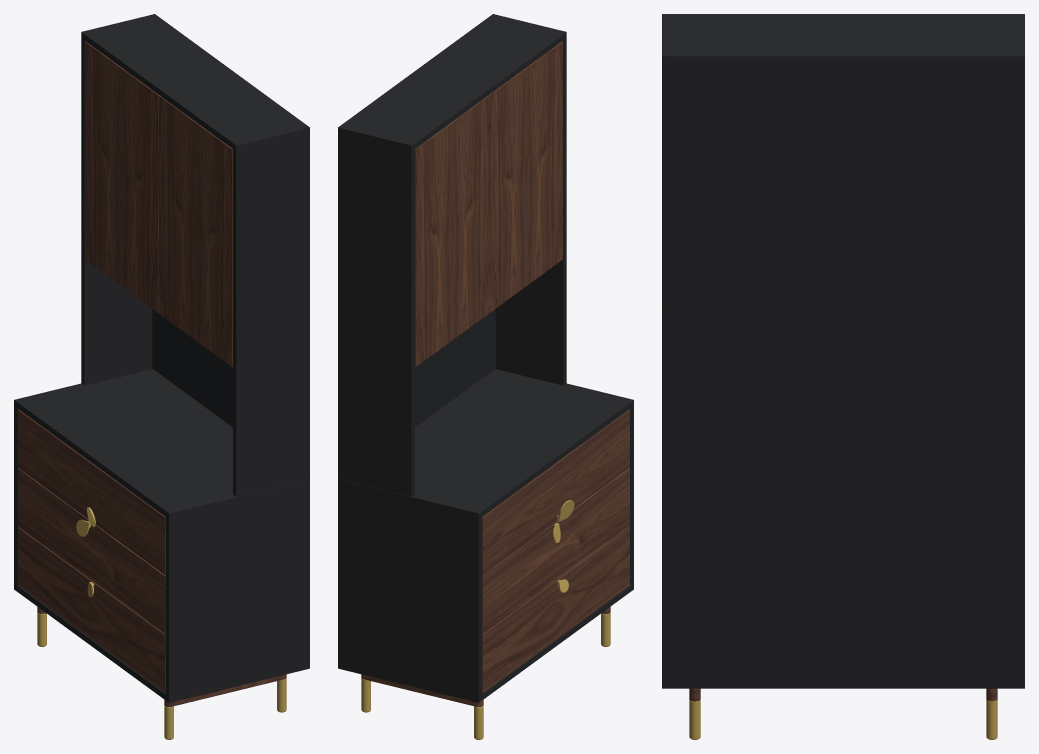
Rendered from petals-high-bar.glb.
3 views of the same model, side by side, from view 1: azimuth 30°, elevation 25°; view 2: azimuth 150°, elevation 25°; view 3: azimuth 270°, elevation 25° (orthographic). The views are drawn at different scales.
Parts seen in each view (by area): view 1: cabinet - lower, cabinet - upper, door - left, door - right, drawer - bot, drawer - top, drawer - mid, back - mid, base; view 2: cabinet - lower, cabinet - upper, door - right, door - left, drawer - bot, drawer - mid, drawer - top, back - mid, base; view 3: back - top, back - bot, back - mid, cabinet - upper, cabinet - lower.
Boxes of the visible parts, <box> form: cabinet - lower: <box>14,369,309,702</box>; cabinet - upper: <box>81,14,309,496</box>; door - left: <box>85,41,159,313</box>; door - right: <box>159,95,232,367</box>; drawer - bot: <box>18,527,165,692</box>; drawer - top: <box>18,409,165,575</box>; drawer - mid: <box>18,468,165,634</box>; back - mid: <box>152,309,232,427</box>; base: <box>37,607,286,706</box>; cabinet - lower: <box>338,369,633,702</box>; cabinet - upper: <box>338,14,566,496</box>; door - right: <box>488,41,562,313</box>; door - left: <box>415,95,488,367</box>; drawer - bot: <box>482,527,629,692</box>; drawer - mid: <box>482,468,629,634</box>; drawer - top: <box>482,409,629,575</box>; back - mid: <box>415,309,495,427</box>; base: <box>361,607,610,706</box>; back - top: <box>665,59,1021,315</box>; back - bot: <box>665,470,1021,685</box>; back - mid: <box>665,315,1021,470</box>; cabinet - upper: <box>662,14,1024,466</box>; cabinet - lower: <box>662,464,1024,688</box>.
Bounding box in the file's own units: 0.5644 × 2.13 × 1.02.
3 materials, 1 textured.
